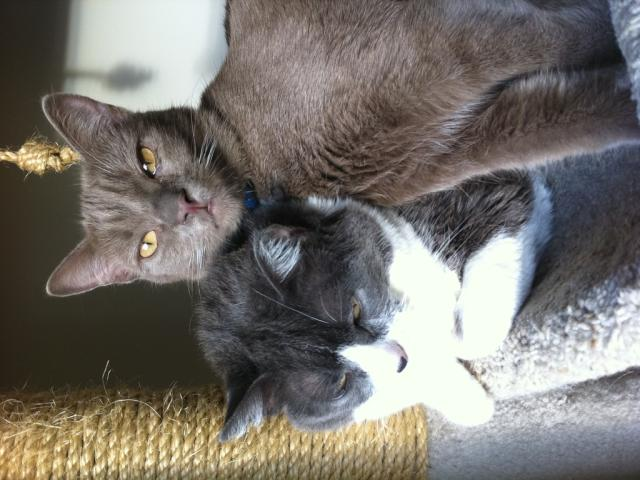Cat: (45, 0, 640, 300), (184, 173, 553, 441)
